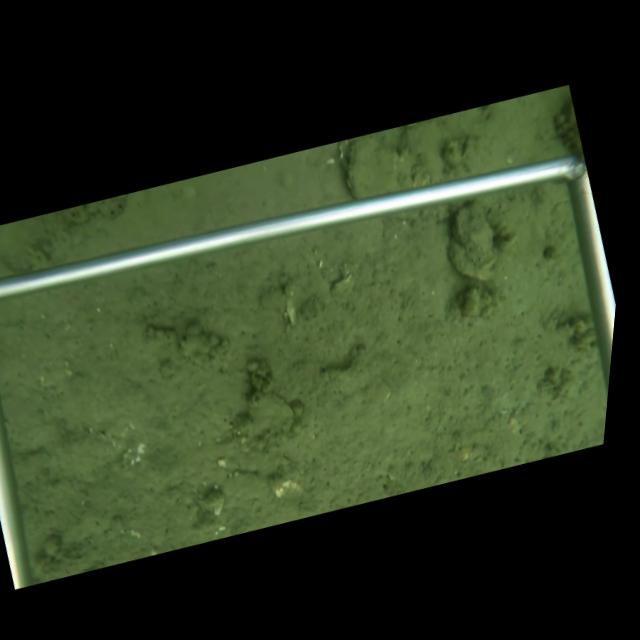Oyster-Closed: (346, 135, 419, 199), (445, 200, 499, 283)
Oyster-Indeterminate: (230, 390, 298, 453)
Oyster-Open: (457, 134, 473, 162)
